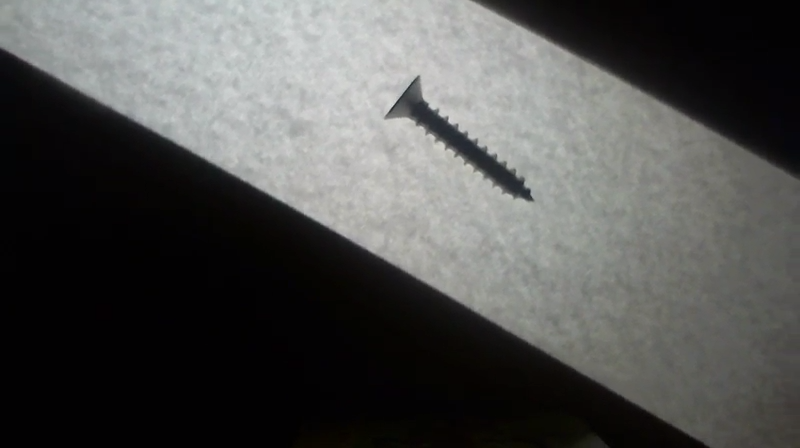S001: (380, 70, 538, 205)
